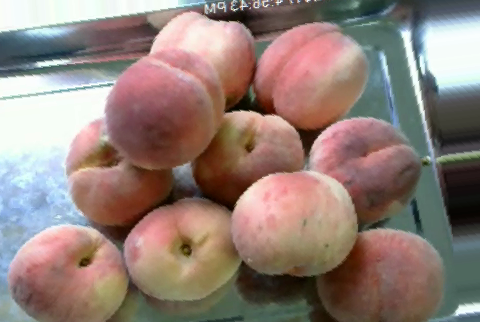Peach: (103, 45, 224, 166), (230, 171, 356, 276), (252, 21, 368, 129), (126, 197, 243, 300), (65, 114, 176, 222), (322, 227, 444, 322), (10, 223, 127, 321), (306, 117, 420, 217), (192, 107, 308, 204), (148, 11, 256, 112)
